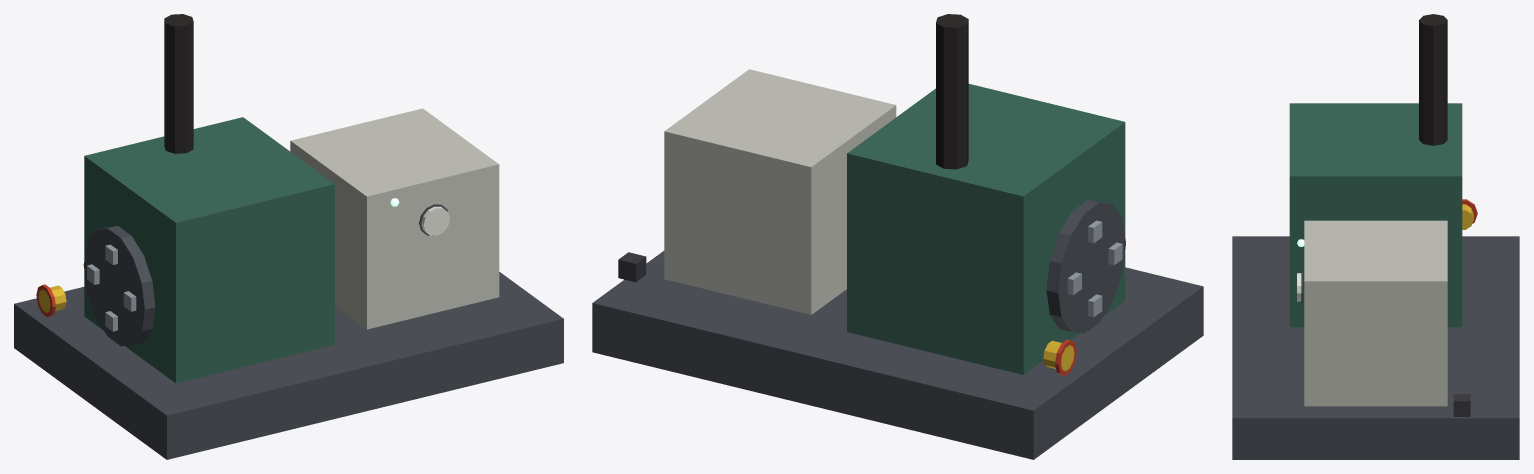
File: GasGenerator@Run.fbx
3 views of the same model, side by side, from view 1: azimuth 30°, elevation 25°; view 2: azimuth 150°, elevation 25°; view 3: azimuth 270°, elevation 25° (orthographic). The views are drawn at different scales.
Parts seen in each view (by area): view 1: GasGenerator_Body, GasGenerator_Flywheel; view 2: GasGenerator_Body, GasGenerator_Flywheel; view 3: GasGenerator_Body.
Part boxes in pixels (<box>): GasGenerator_Body: <box>14,14,563,459</box>; GasGenerator_Flywheel: <box>83,226,155,346</box>; GasGenerator_Body: <box>592,14,1203,459</box>; GasGenerator_Flywheel: <box>1046,200,1125,333</box>; GasGenerator_Body: <box>1232,14,1519,459</box>.
Size of the model in its own units: 1.51 by 1.2 by 1.
